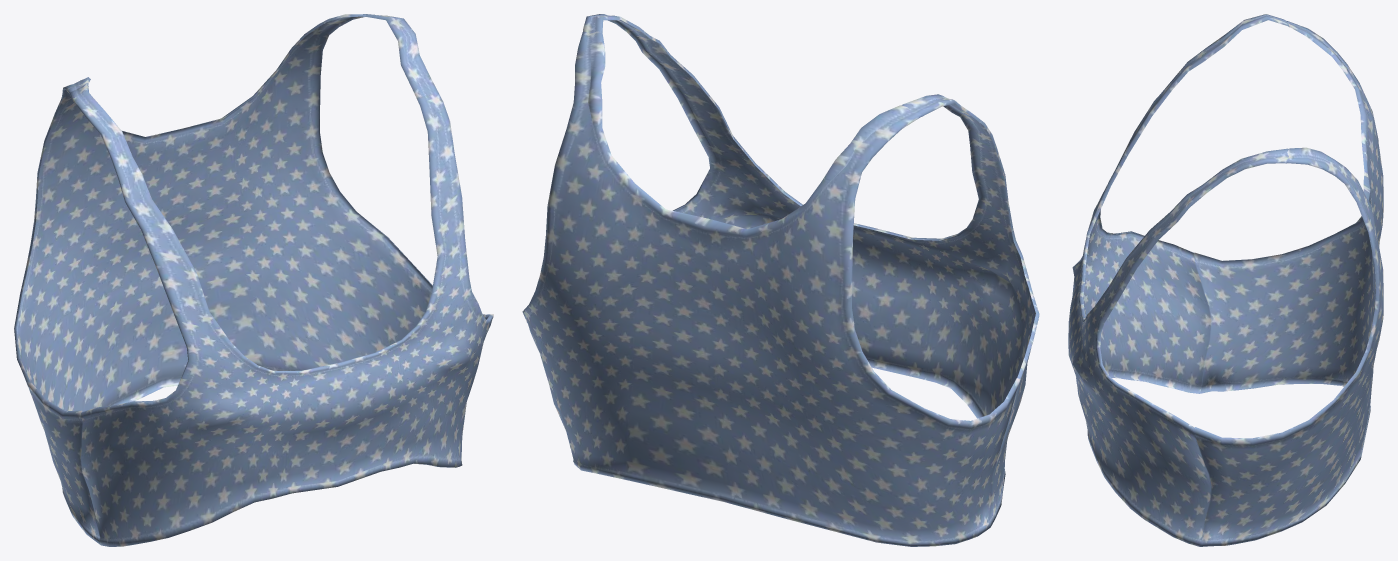
The model's file is wolgade-female-top-01.glb.
The picture shows the model from 3 angles, left to right: view 1: azimuth 30°, elevation 25°; view 2: azimuth 150°, elevation 25°; view 3: azimuth 270°, elevation 25°; orthographic projection. The views are drawn at different scales.
Parts seen in each view (by area): view 1: Human.wolgade_female_top_01; view 2: Human.wolgade_female_top_01; view 3: Human.wolgade_female_top_01.
Part boxes in pixels (x1,y1,x2,y2): Human.wolgade_female_top_01: (14,14,493,546); Human.wolgade_female_top_01: (522,14,1039,546); Human.wolgade_female_top_01: (1068,14,1383,546).
Size of the model in its own units: 0.3487 by 0.3457 by 0.2562.
1 material, 1 textured.
